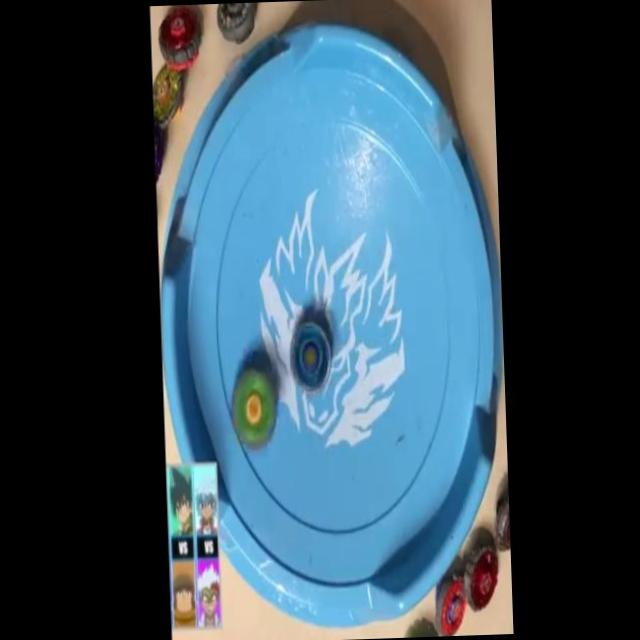Beyblade: (230, 368, 278, 451), (288, 322, 332, 395), (462, 538, 499, 613), (157, 8, 201, 70), (153, 60, 185, 130), (434, 575, 466, 636)
